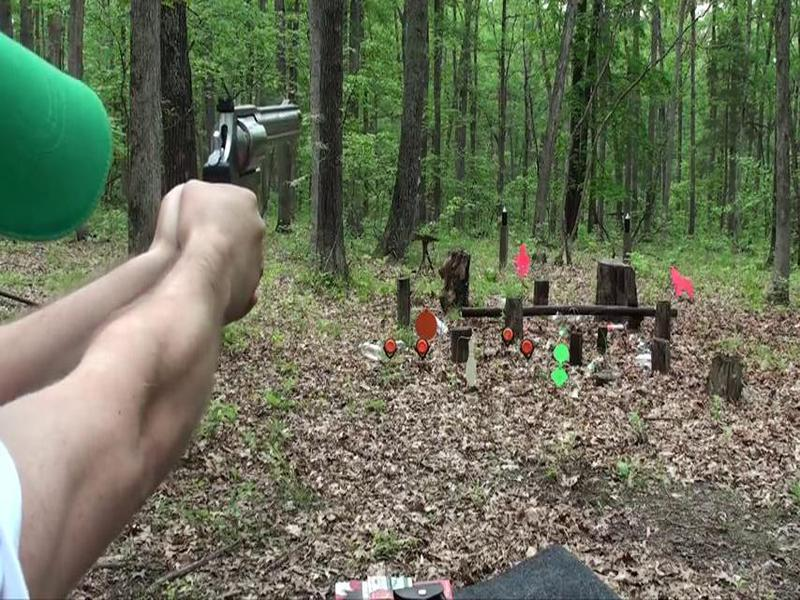Revolver: (178, 77, 337, 245)
